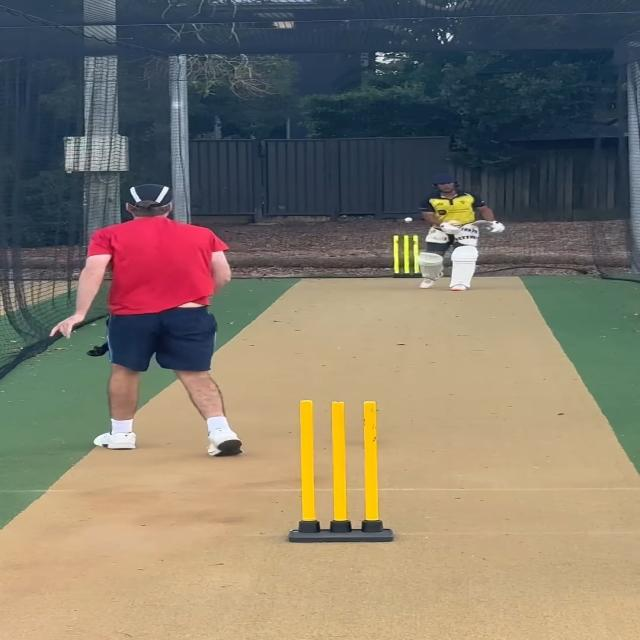stump: (281, 398, 396, 544), (390, 232, 422, 280)
